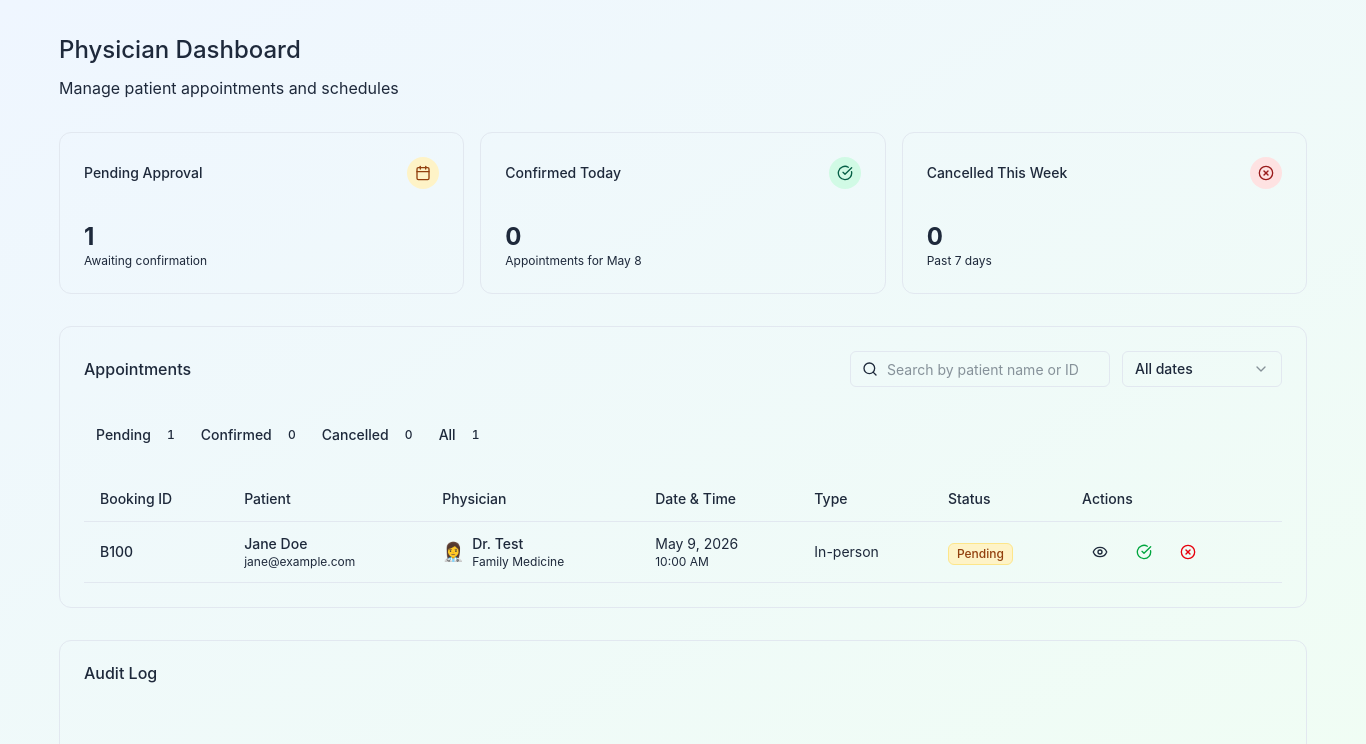
AdminView › cancelling a pending booking opens the confirmation dialog and moves it to Cancelled
Expected: the cell "B100" is shown, 84,522 -> 228,582
Click the button named "cancel appointment B100" at (1188, 552), box 1170,536 -> 1206,568
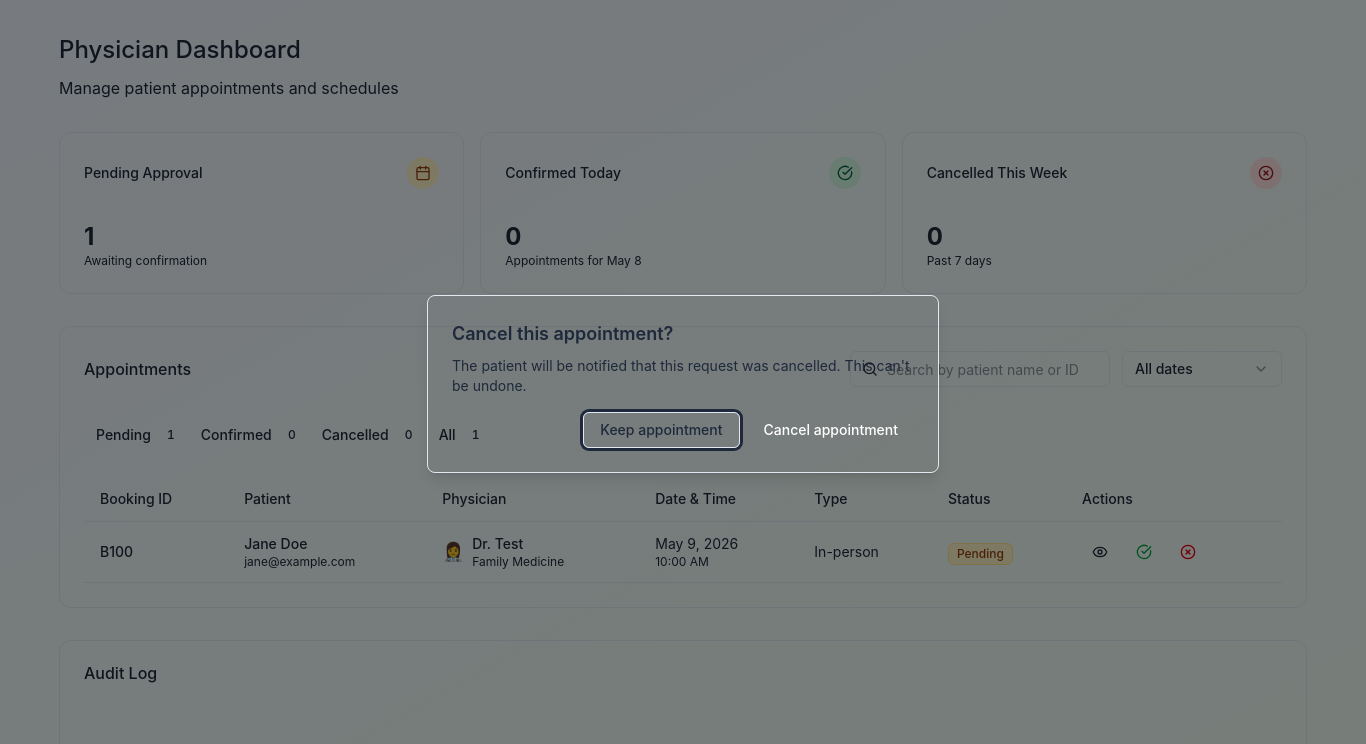
Expected: the heading "Cancel this appointment?" is shown, 452,323 -> 673,344
// Confirm cancellation.
Click the button "Cancel appointment" at (831, 430), box 748,412 -> 914,448
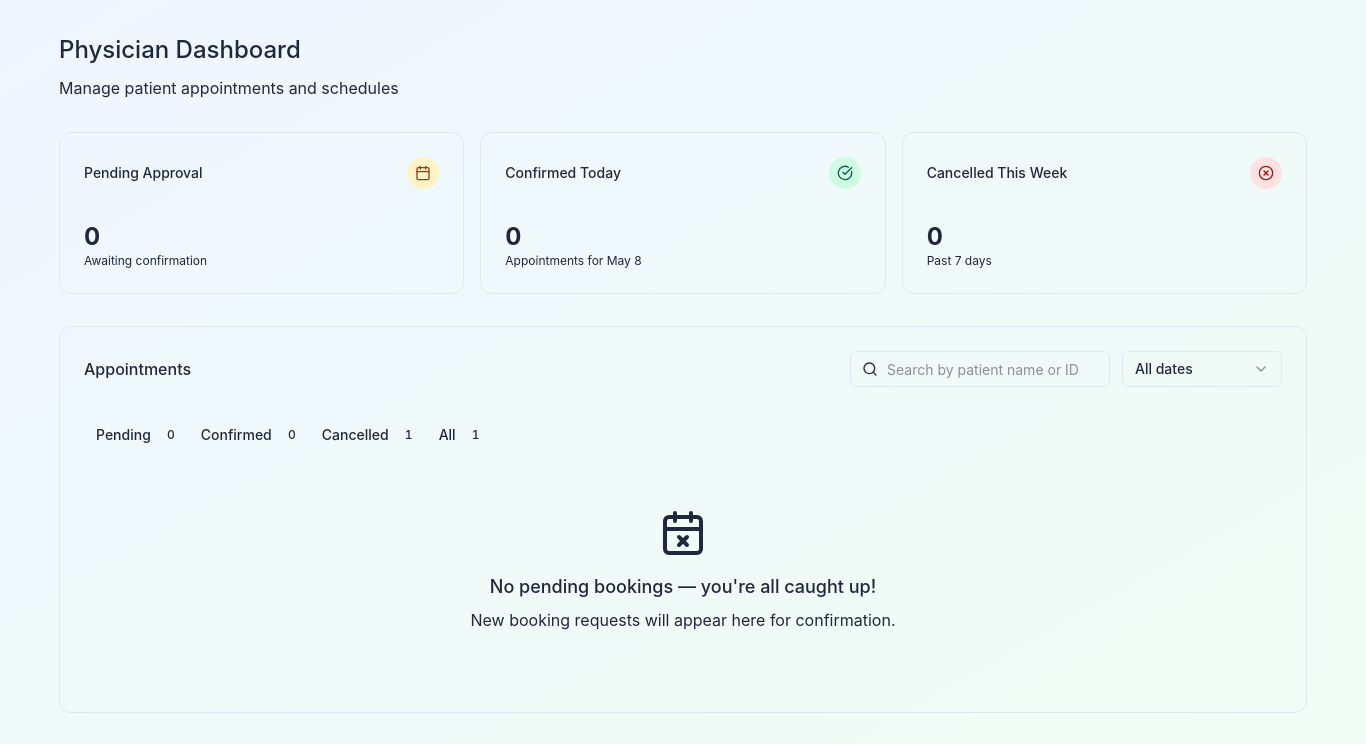
Expected: the cell "B100" is gone
Click the tab "Cancelled 1" at (371, 435), box 313,420 -> 430,450
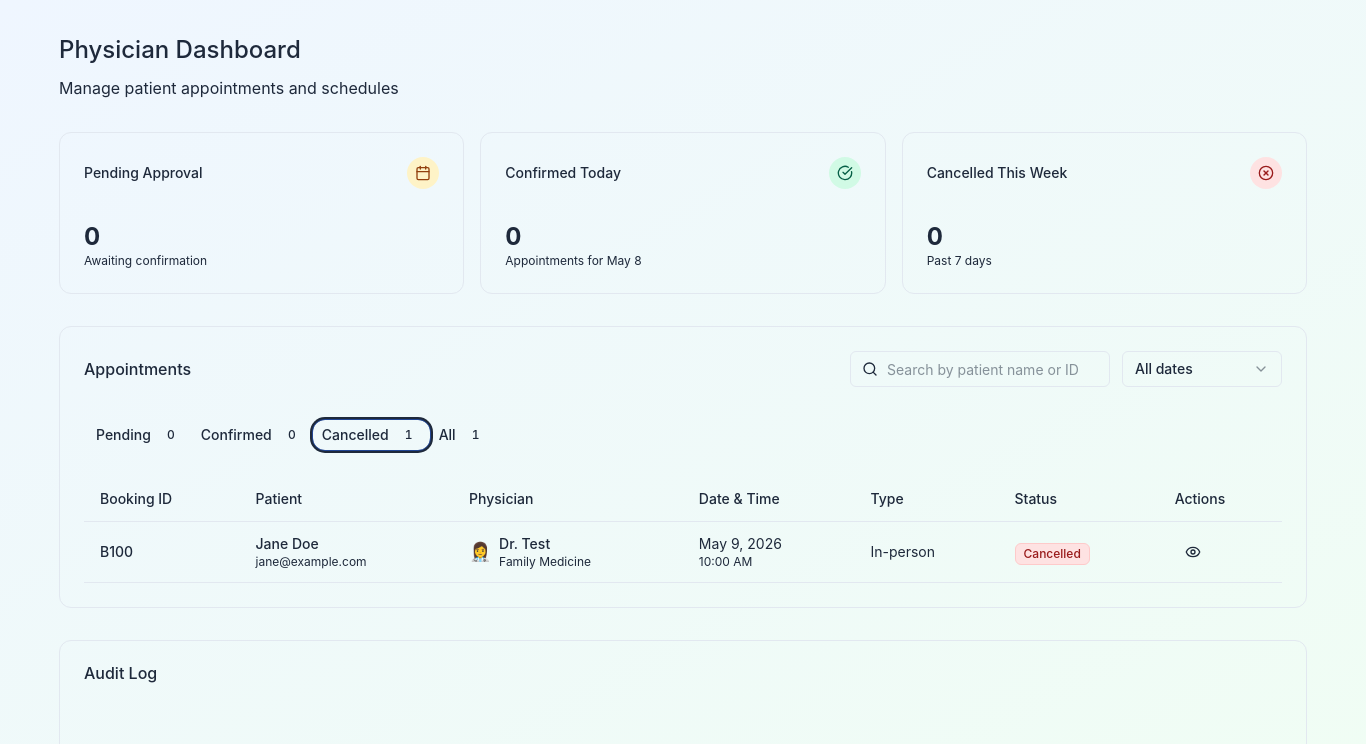
Expected: the cell "B100" is shown, 84,522 -> 240,582
